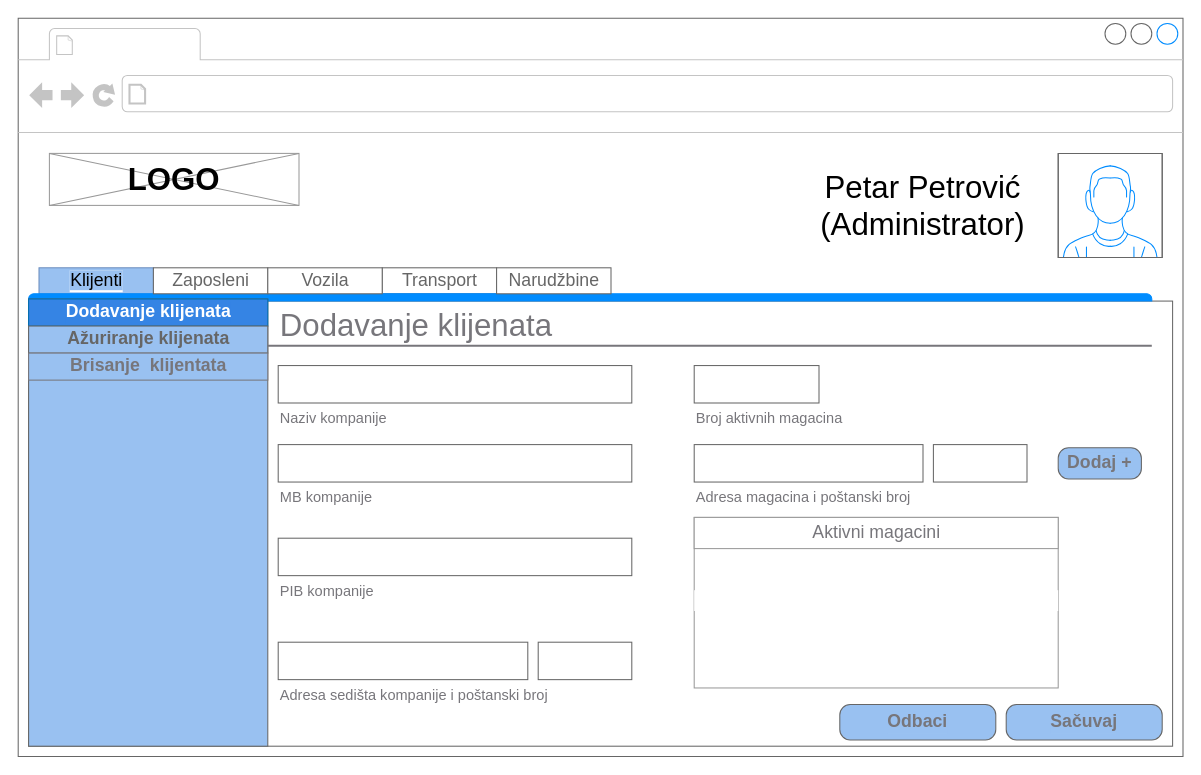
Some shapes in this 1201 by 775 pixel diagram are drawn without their labels. Each missing label, with the centre of its shape:
"https://www.transportsecera.com/admin/klijenti" goes at pixel 386 94.
"Transport šećera" goes at pixel 137 44.
